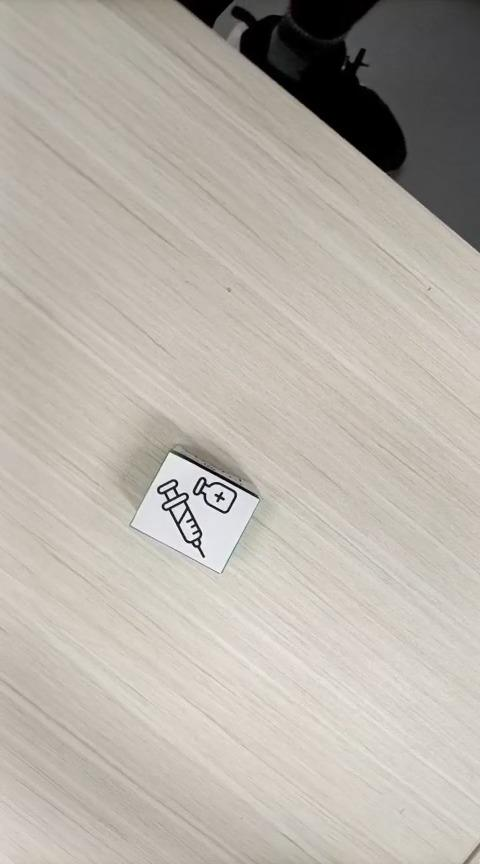antiseptic cream: (128, 445, 261, 574)
